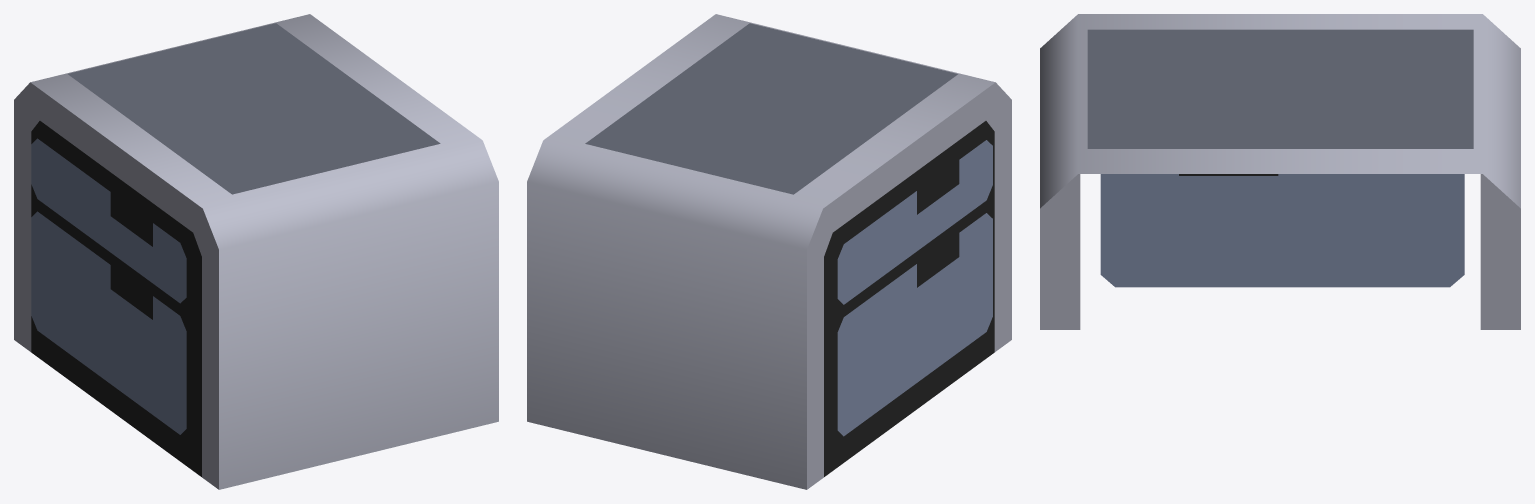
The model's file is interior_E_010.fbx.
3 views of the same model, side by side, from view 1: azimuth 30°, elevation 25°; view 2: azimuth 150°, elevation 25°; view 3: azimuth 270°, elevation 25° (orthographic). The views are drawn at different scales.
Parts seen in each view (by area): view 1: interior_E_010; view 2: interior_E_010; view 3: interior_E_010.
Part boxes in pixels (x1,y1,x2,y2): interior_E_010: (14, 14, 498, 489); interior_E_010: (527, 14, 1011, 489); interior_E_010: (1040, 14, 1520, 329).
Size of the model in its own units: 67.37 by 61.2 by 83.48.
